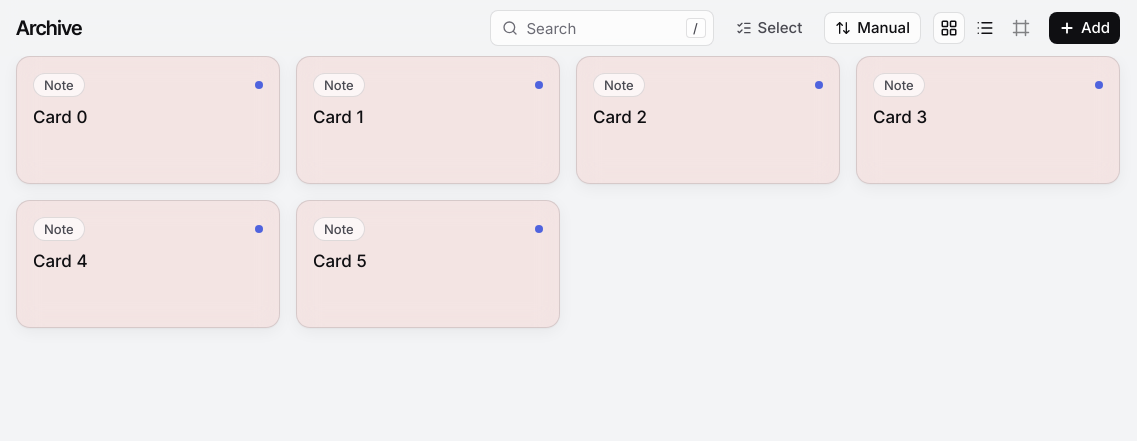
Board selection › offers restore and trash in the archive
What coordinates should you click on to do the following:
click the button "Select"
I would click on:
 (769, 28)
Its box is [726, 12, 812, 44].
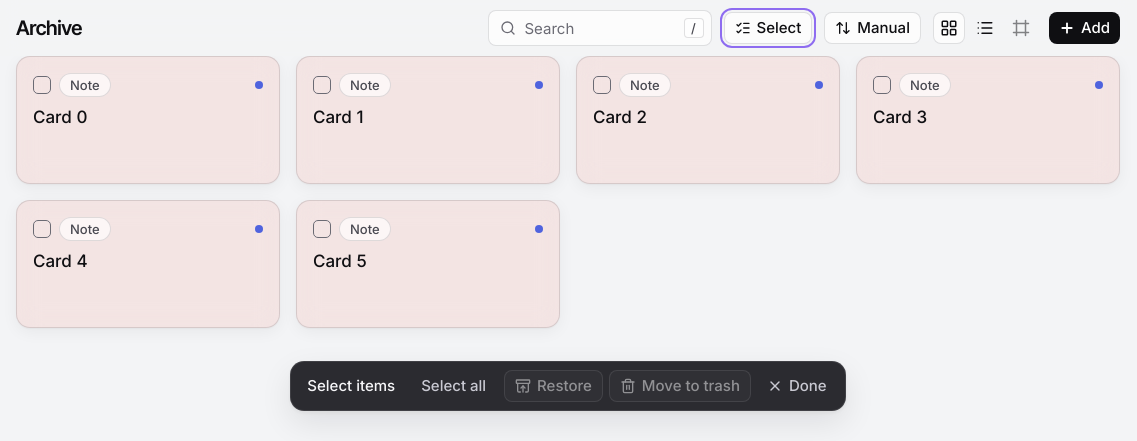
Expected: the element named "Selection" does not show "Delete forever", [290, 361, 846, 411]
Result: the element named "Selection" shows "Restore" at [504, 370, 603, 402]
Result: the element named "Selection" shows "Move to trash" at [609, 370, 751, 402]
